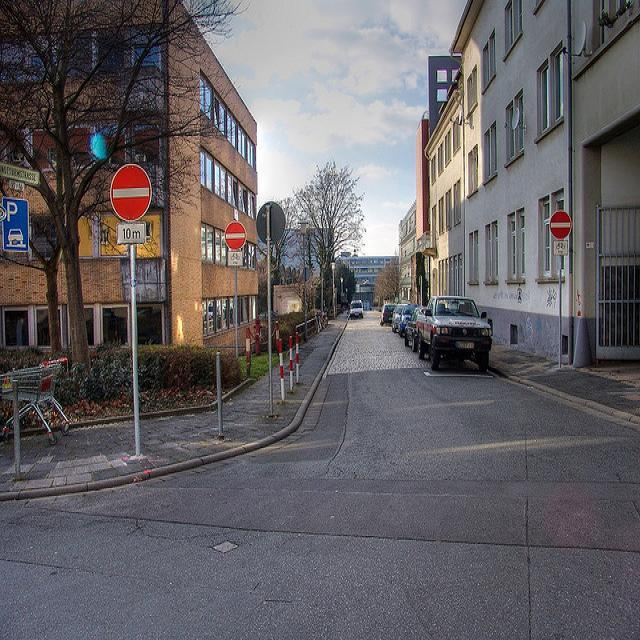fire_hydrant: (252, 314, 263, 356)
